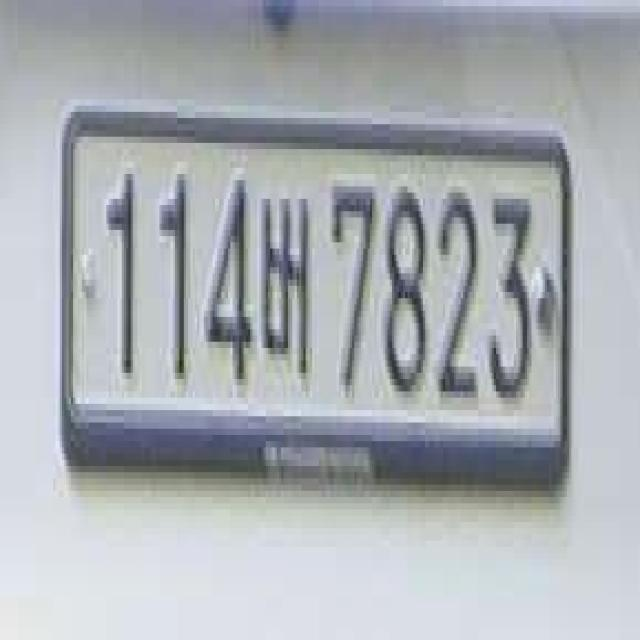illegal_plate: (60, 105, 572, 513)
